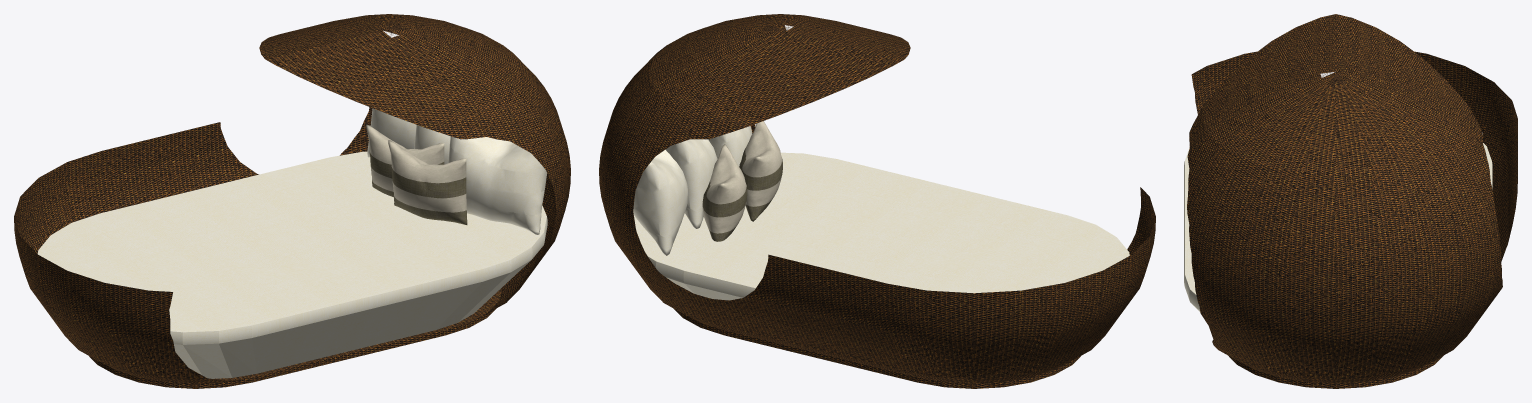
Rendered from daybed furniture 7.dae.
3 views of the same model, side by side, from view 1: azimuth 30°, elevation 25°; view 2: azimuth 150°, elevation 25°; view 3: azimuth 270°, elevation 25° (orthographic).
Parts seen in each view (by area): view 1: group_1, group_0, Group_582 (×3), Group_21 (×5); view 2: group_0, group_1, Group_582 (×3), Group_21 (×6); view 3: group_0, group_1.
Part boxes in pixels (bbox=[...]): group_1: bbox=[37, 151, 547, 378]; group_0: bbox=[14, 14, 570, 388]; Group_582 (×3): bbox=[366, 108, 547, 234]; Group_21 (×5): bbox=[366, 124, 467, 224]; group_0: bbox=[599, 14, 1155, 388]; group_1: bbox=[634, 152, 1129, 300]; Group_582 (×3): bbox=[633, 126, 752, 255]; Group_21 (×6): bbox=[702, 121, 782, 233]; group_0: bbox=[1187, 14, 1517, 388]; group_1: bbox=[1184, 143, 1492, 311].
Size of the model in its own units: 82.78 by 46.87 by 41.19.
6 materials, 5 textured.
